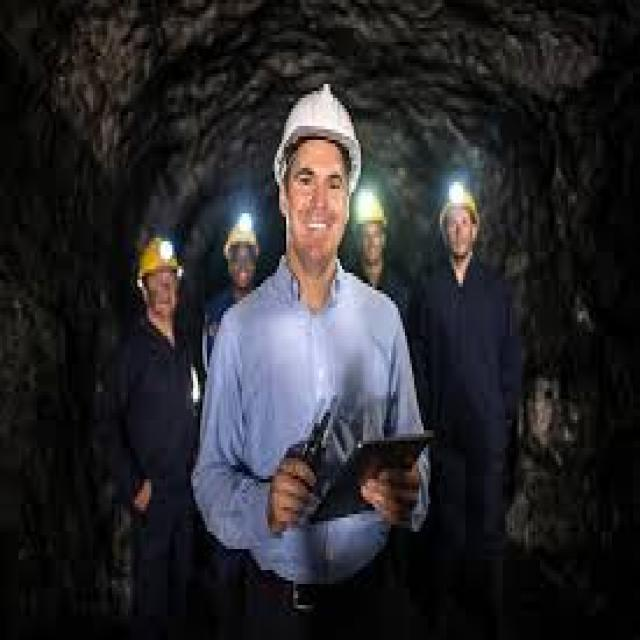No_BreathingApparatus: (282, 153, 347, 261), (142, 266, 180, 327), (443, 208, 475, 258)
No_Glove: (265, 452, 318, 531)
No_Goggles: (288, 161, 347, 193)
Person: (213, 109, 408, 636), (109, 217, 202, 631)
